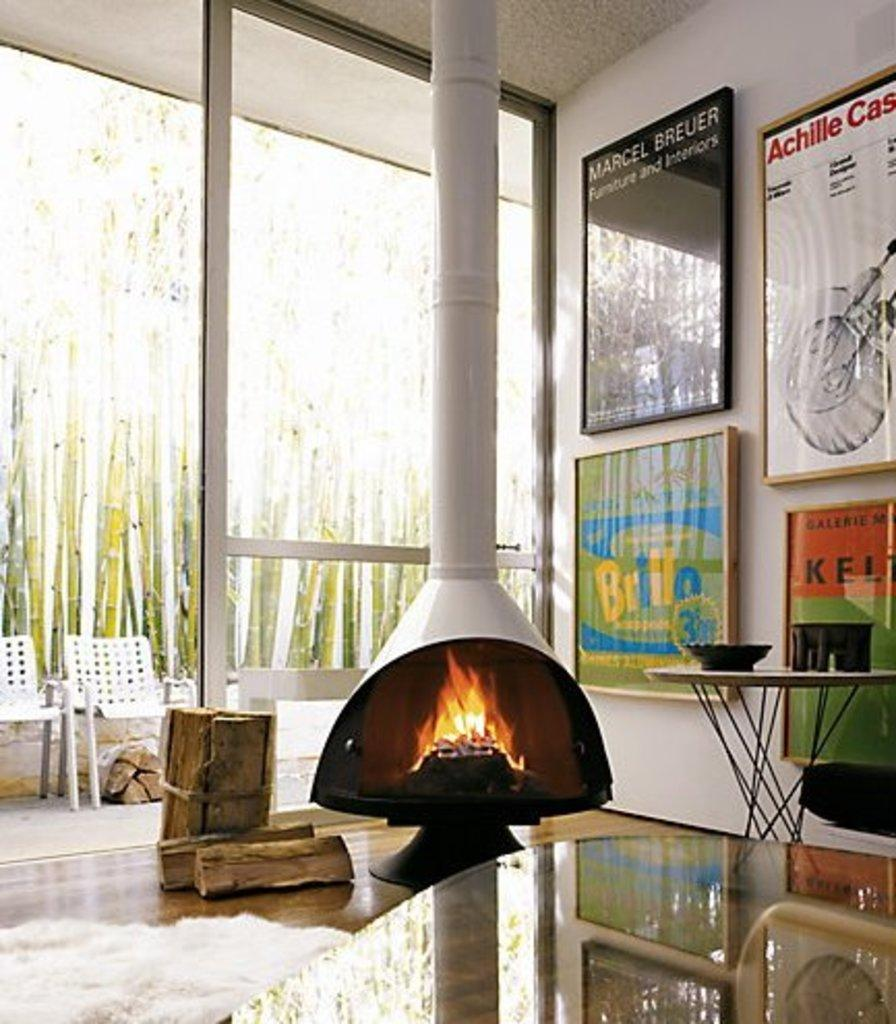Fire: (414, 651, 527, 797)
